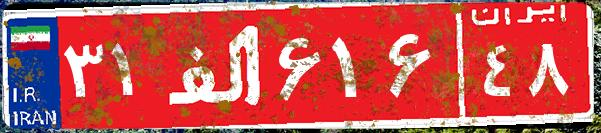1: (330, 28, 385, 110), (110, 28, 158, 105)
3: (57, 26, 110, 107)
4: (475, 38, 525, 113)
6: (385, 28, 445, 110), (273, 28, 330, 110)
8: (525, 38, 570, 115)
الف: (158, 15, 273, 115)
